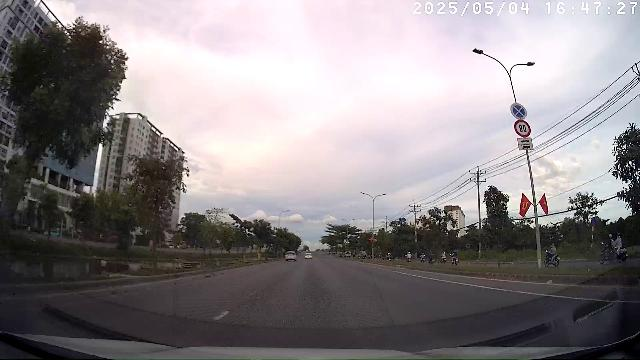127-toc-do-toi-da-80: (514, 120, 531, 137)
